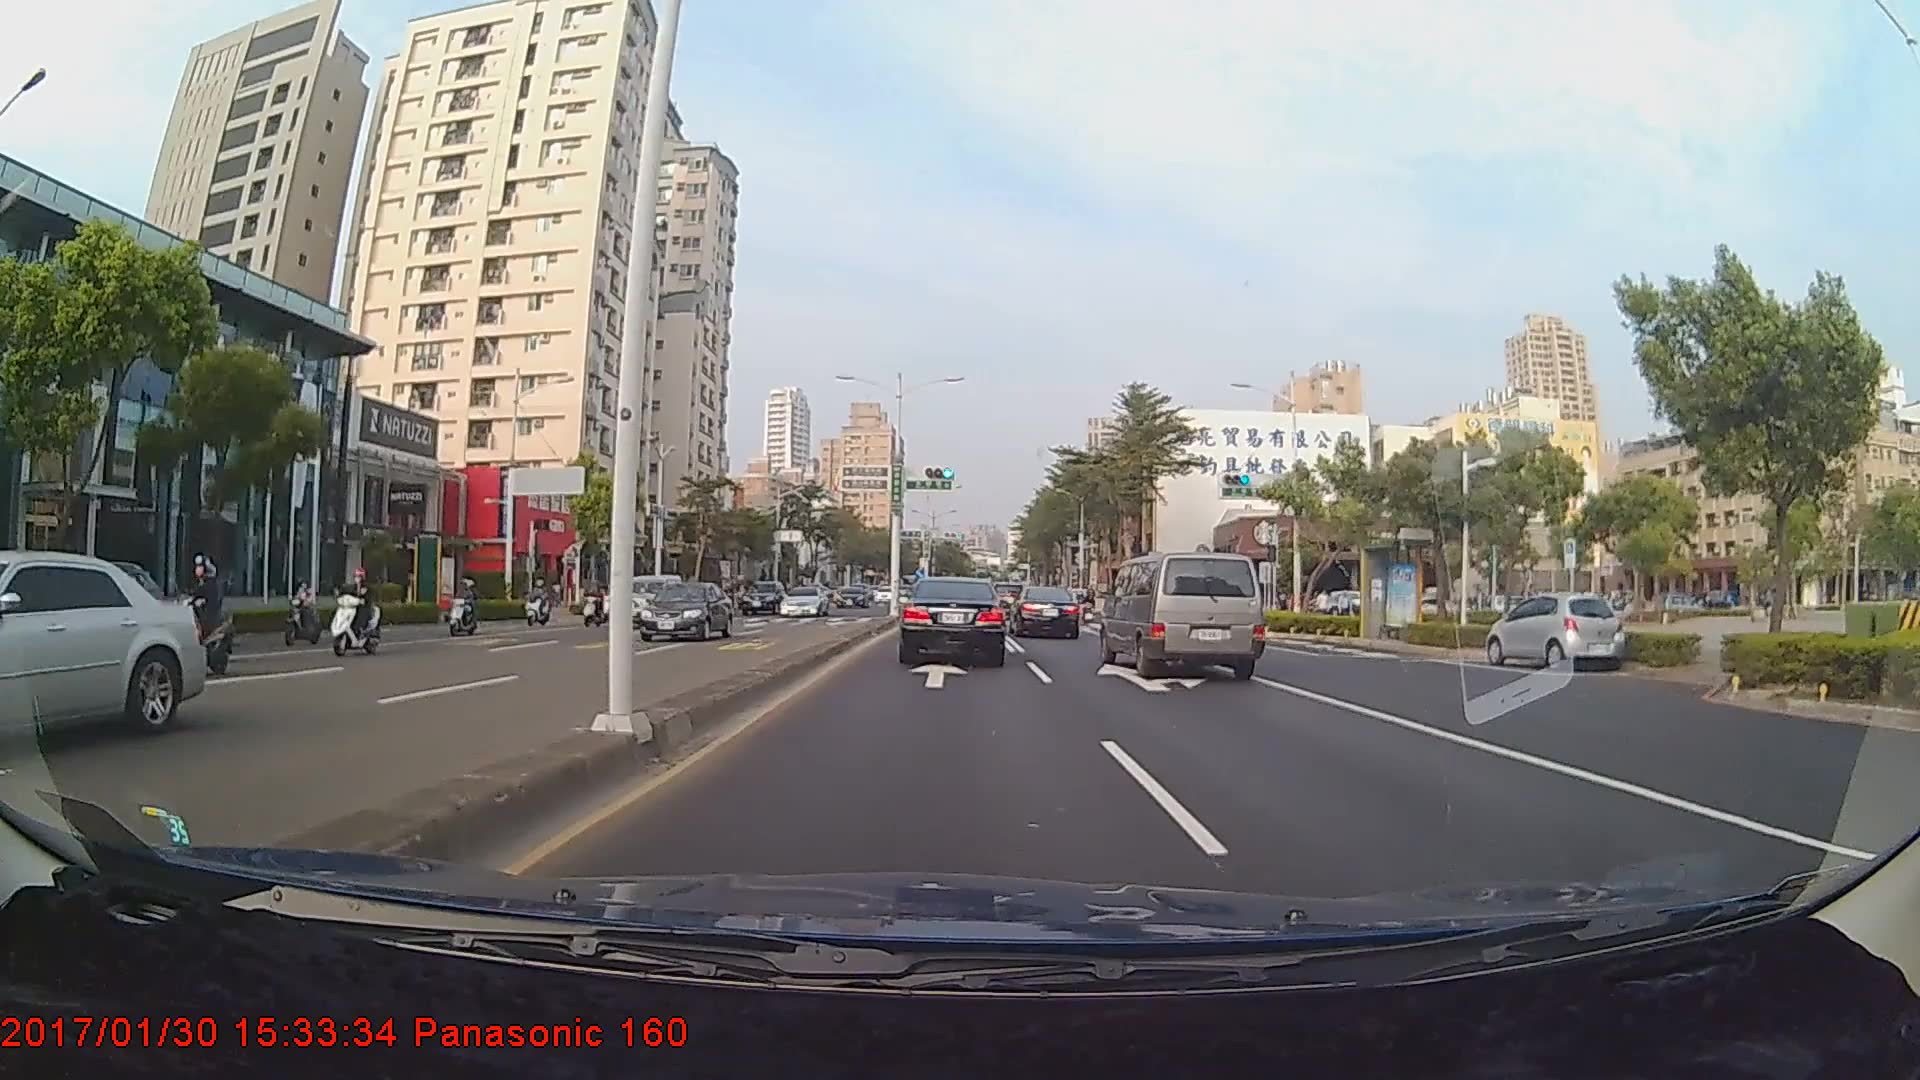rider: (165, 552, 238, 675), (323, 560, 391, 655), (280, 574, 330, 648), (447, 573, 483, 639)
vehicle: (0, 548, 201, 756), (1099, 545, 1267, 683), (1487, 592, 1619, 670), (899, 575, 1006, 666), (637, 578, 732, 642), (604, 571, 686, 634), (1009, 585, 1081, 640), (740, 576, 785, 614), (777, 584, 829, 615), (836, 584, 870, 608)
